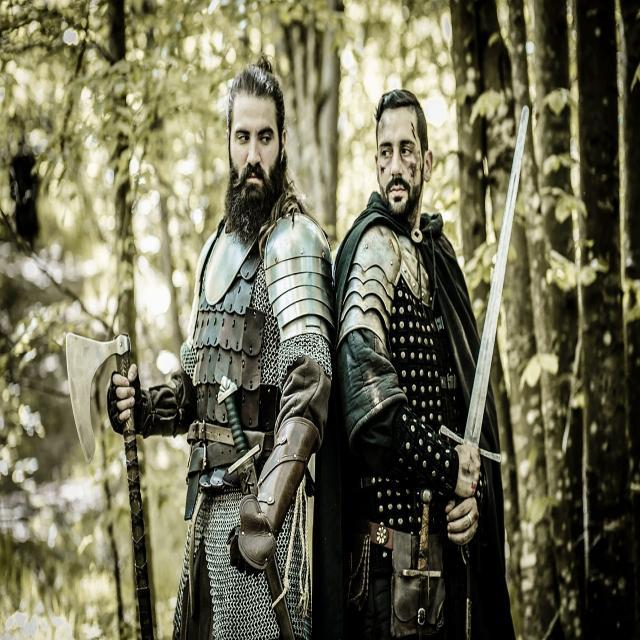Axe: (440, 106, 530, 498), (66, 332, 130, 461), (124, 420, 154, 639)
Knife: (401, 489, 441, 634), (218, 376, 260, 495), (265, 558, 295, 640)
